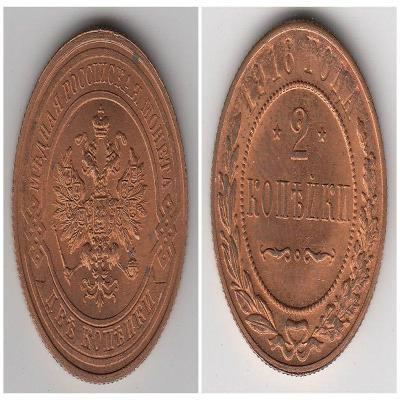numismatics: (211, 20, 387, 373), (12, 30, 188, 382)
